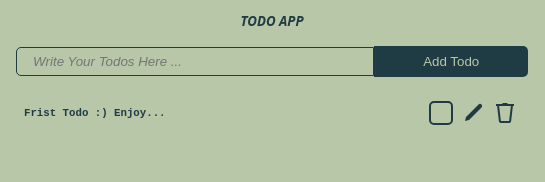
Test case: we write and fill todo input
The image size is (545, 182).
In the field with id "todo_input": (195,62) x1=16 y1=47 x2=374 y2=77, type "Hello"
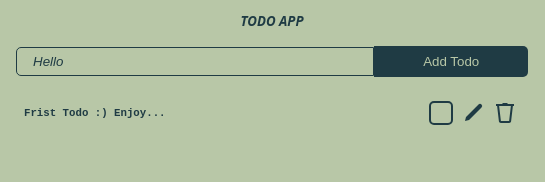
Click the button "Add Todo": (451,62) x1=374 y1=46 x2=528 y2=77
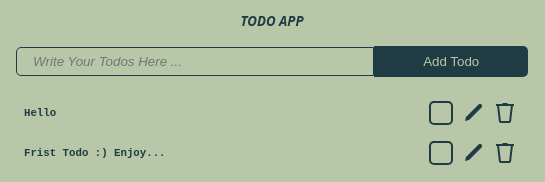
expect the heading with id "todos_holder" reads "Hello": met, box x1=24 y1=107 x2=56 y2=119
